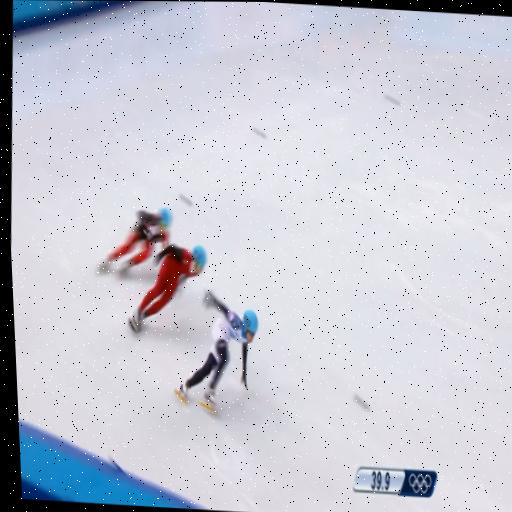Skater: (176, 292, 258, 410), (128, 244, 207, 332), (99, 208, 173, 275)
